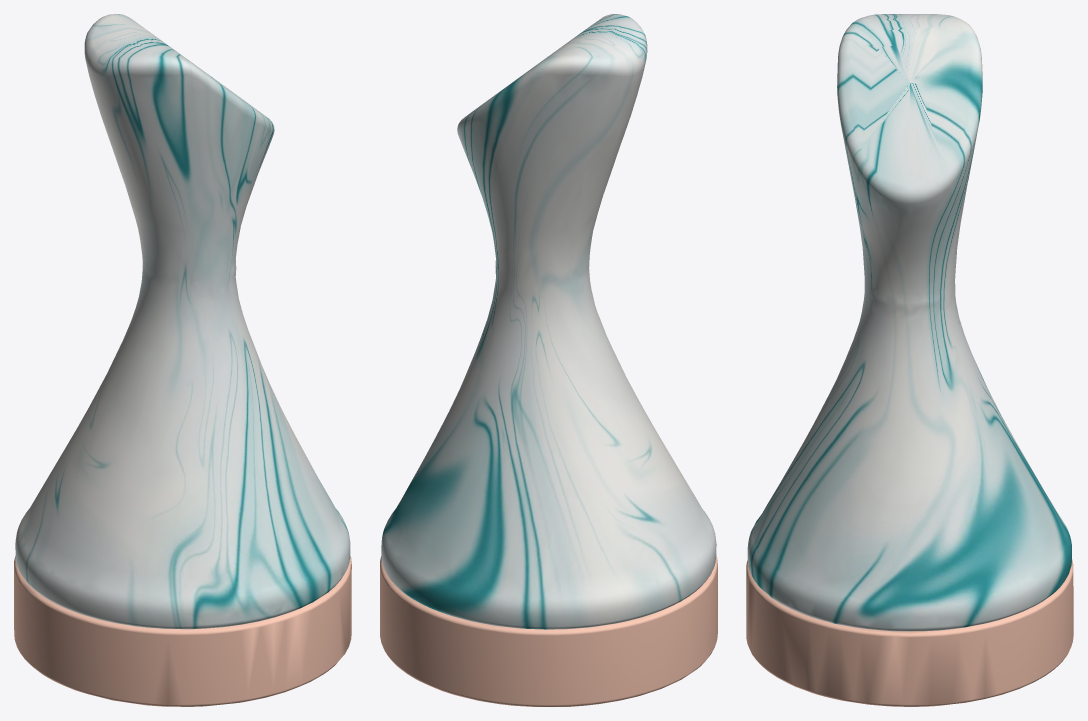
File: knight-white.glb
3 renders of one model, left to right at view 1: azimuth 30°, elevation 25°; view 2: azimuth 150°, elevation 25°; view 3: azimuth 270°, elevation 25°, orthographic. The views are drawn at different scales.
Visible parts, largest first — view 1: jezdec_bila; view 2: jezdec_bila; view 3: jezdec_bila.
Boxes of the visible parts, x1,y1,x2,y2 form: jezdec_bila: (14,14,351,706); jezdec_bila: (380,14,717,706); jezdec_bila: (746,14,1073,706).
Size of the model in its own units: 0.6737 by 1.35 by 0.6737.
Materials: 2 (1 with a texture image).
